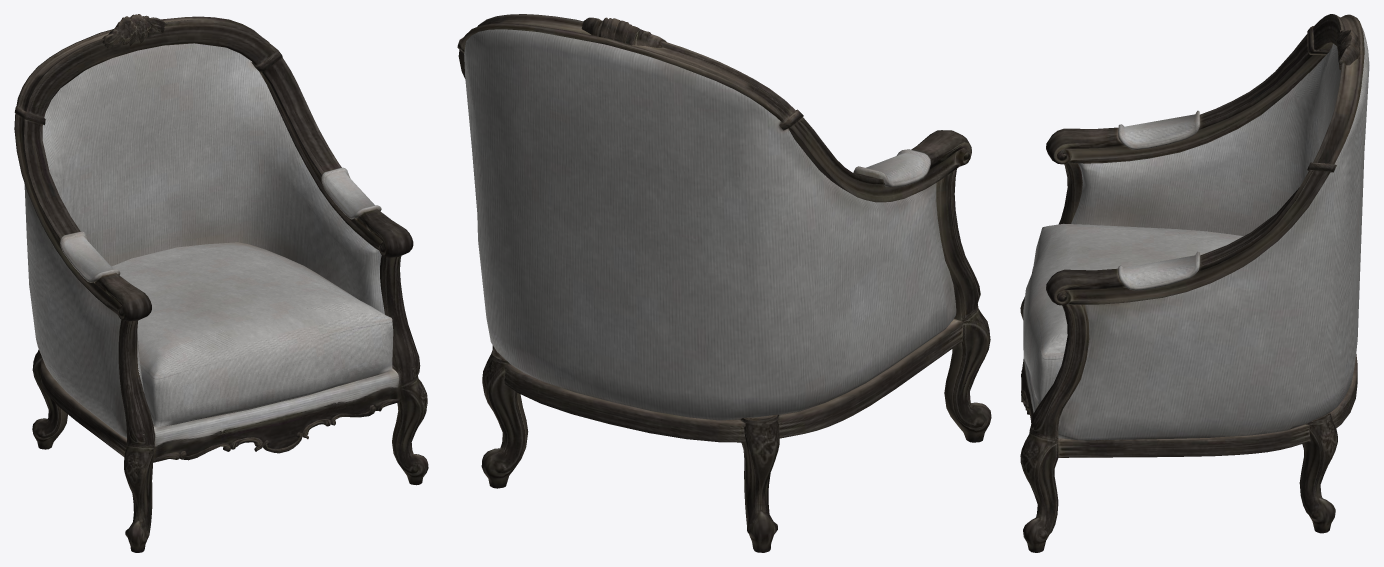
File: ArmChair_01.glb
3 renders of one model, left to right at view 1: azimuth 30°, elevation 25°; view 2: azimuth 150°, elevation 25°; view 3: azimuth 270°, elevation 25°, orthographic. The views are drawn at different scales.
Parts seen in each view (by area): view 1: ArmChair_01; view 2: ArmChair_01; view 3: ArmChair_01.
Part boxes in pixels (<box>): ArmChair_01: <box>14,14,428,552</box>; ArmChair_01: <box>457,14,991,552</box>; ArmChair_01: <box>1020,14,1369,552</box>.
Size of the model in its own units: 0.8485 by 1.07 by 0.7658.
Materials: 1 (1 with a texture image).
